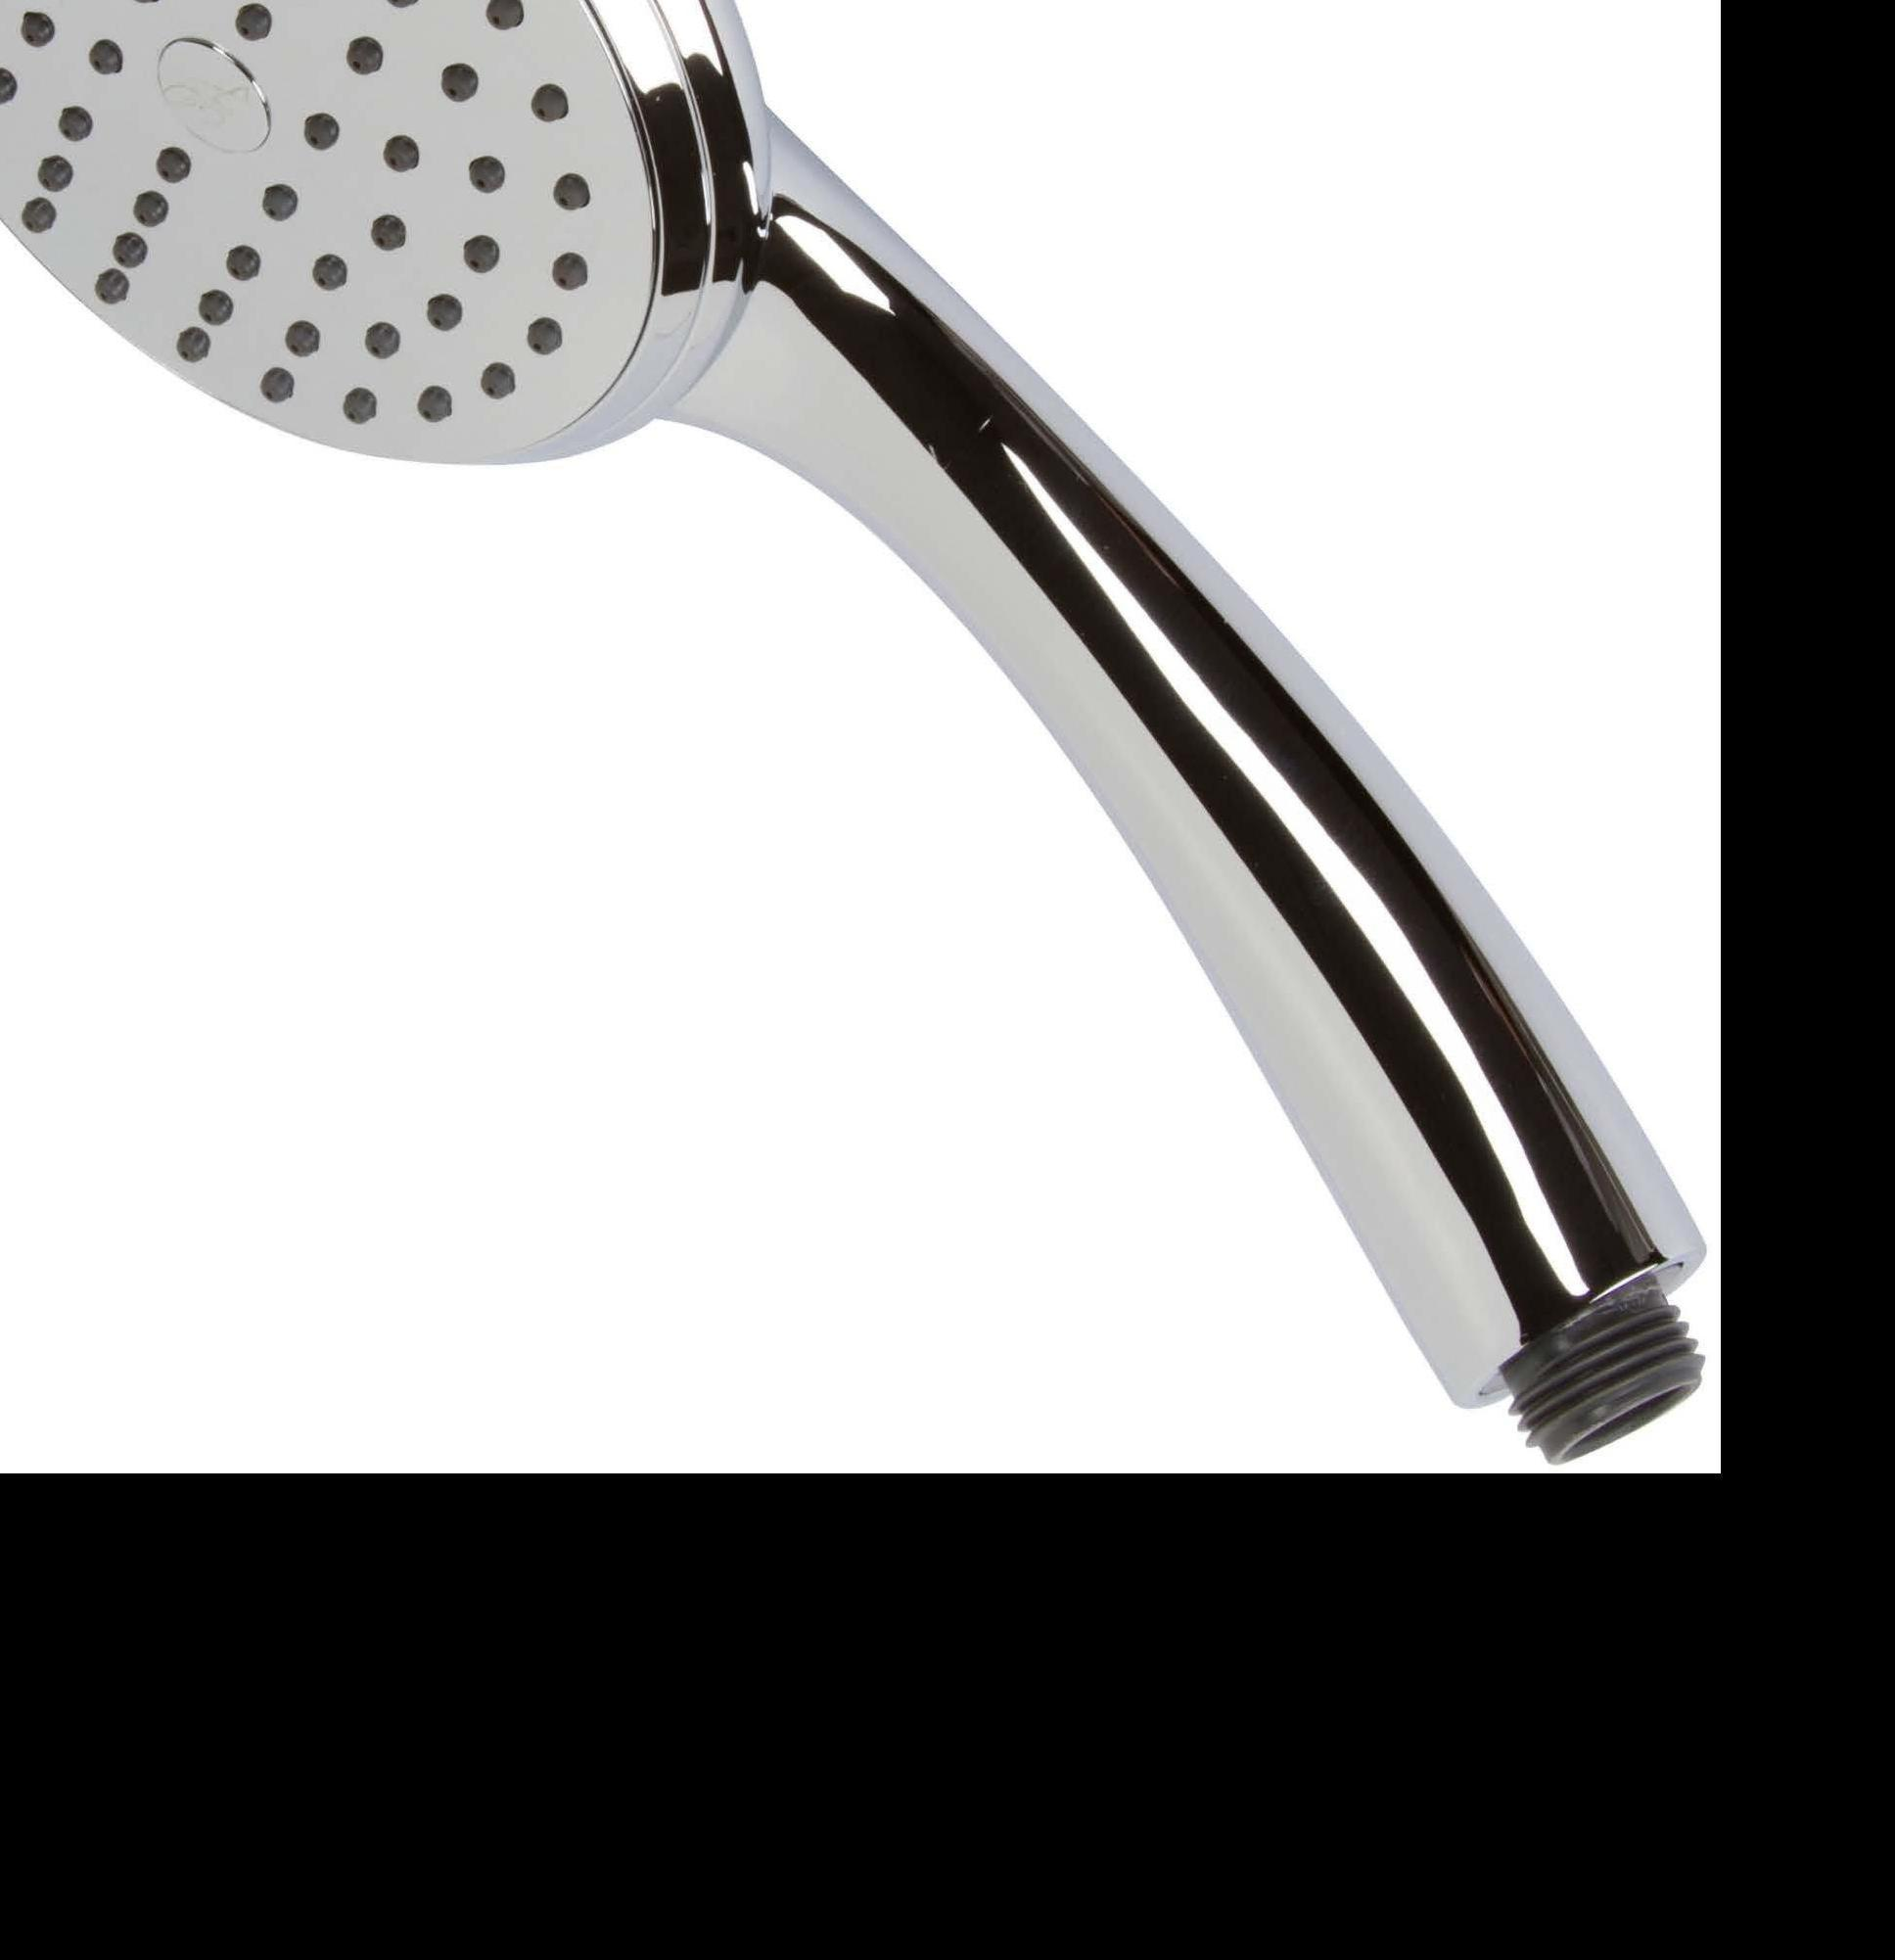Ducha: (0, 0, 1676, 1447)
